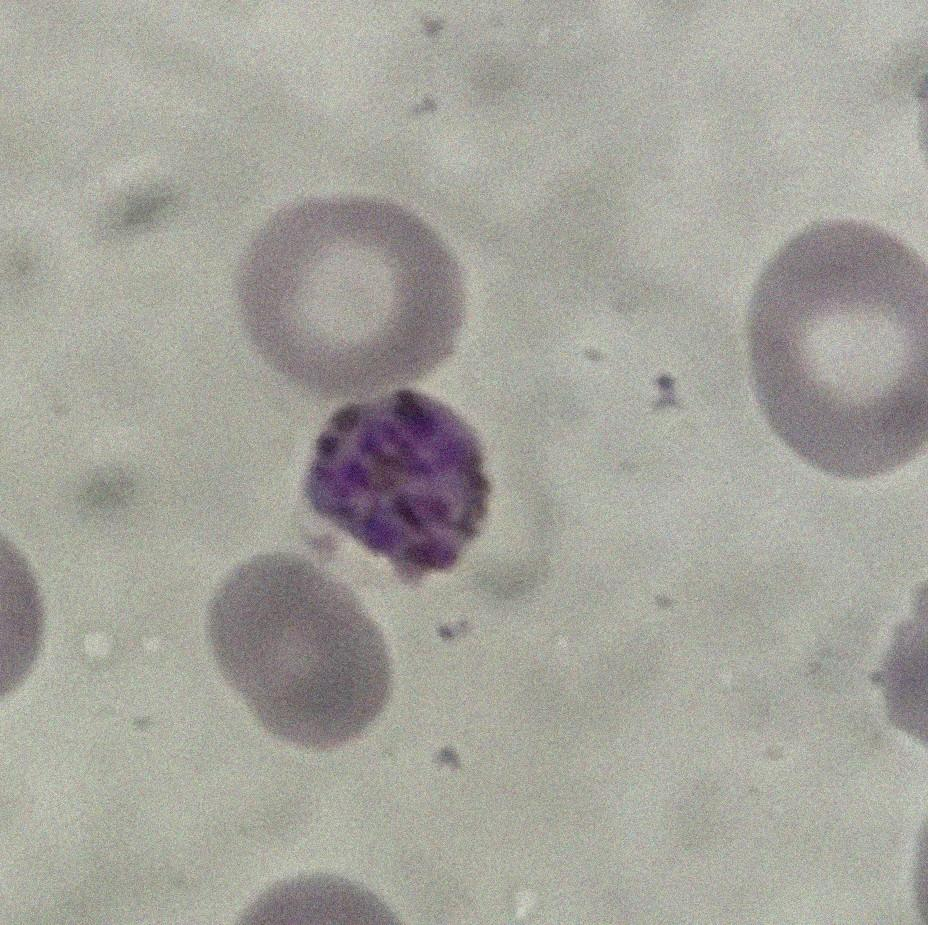Infected: (310, 397, 491, 572)
Uninfected: (754, 221, 928, 482), (240, 199, 464, 393), (214, 557, 396, 754)
